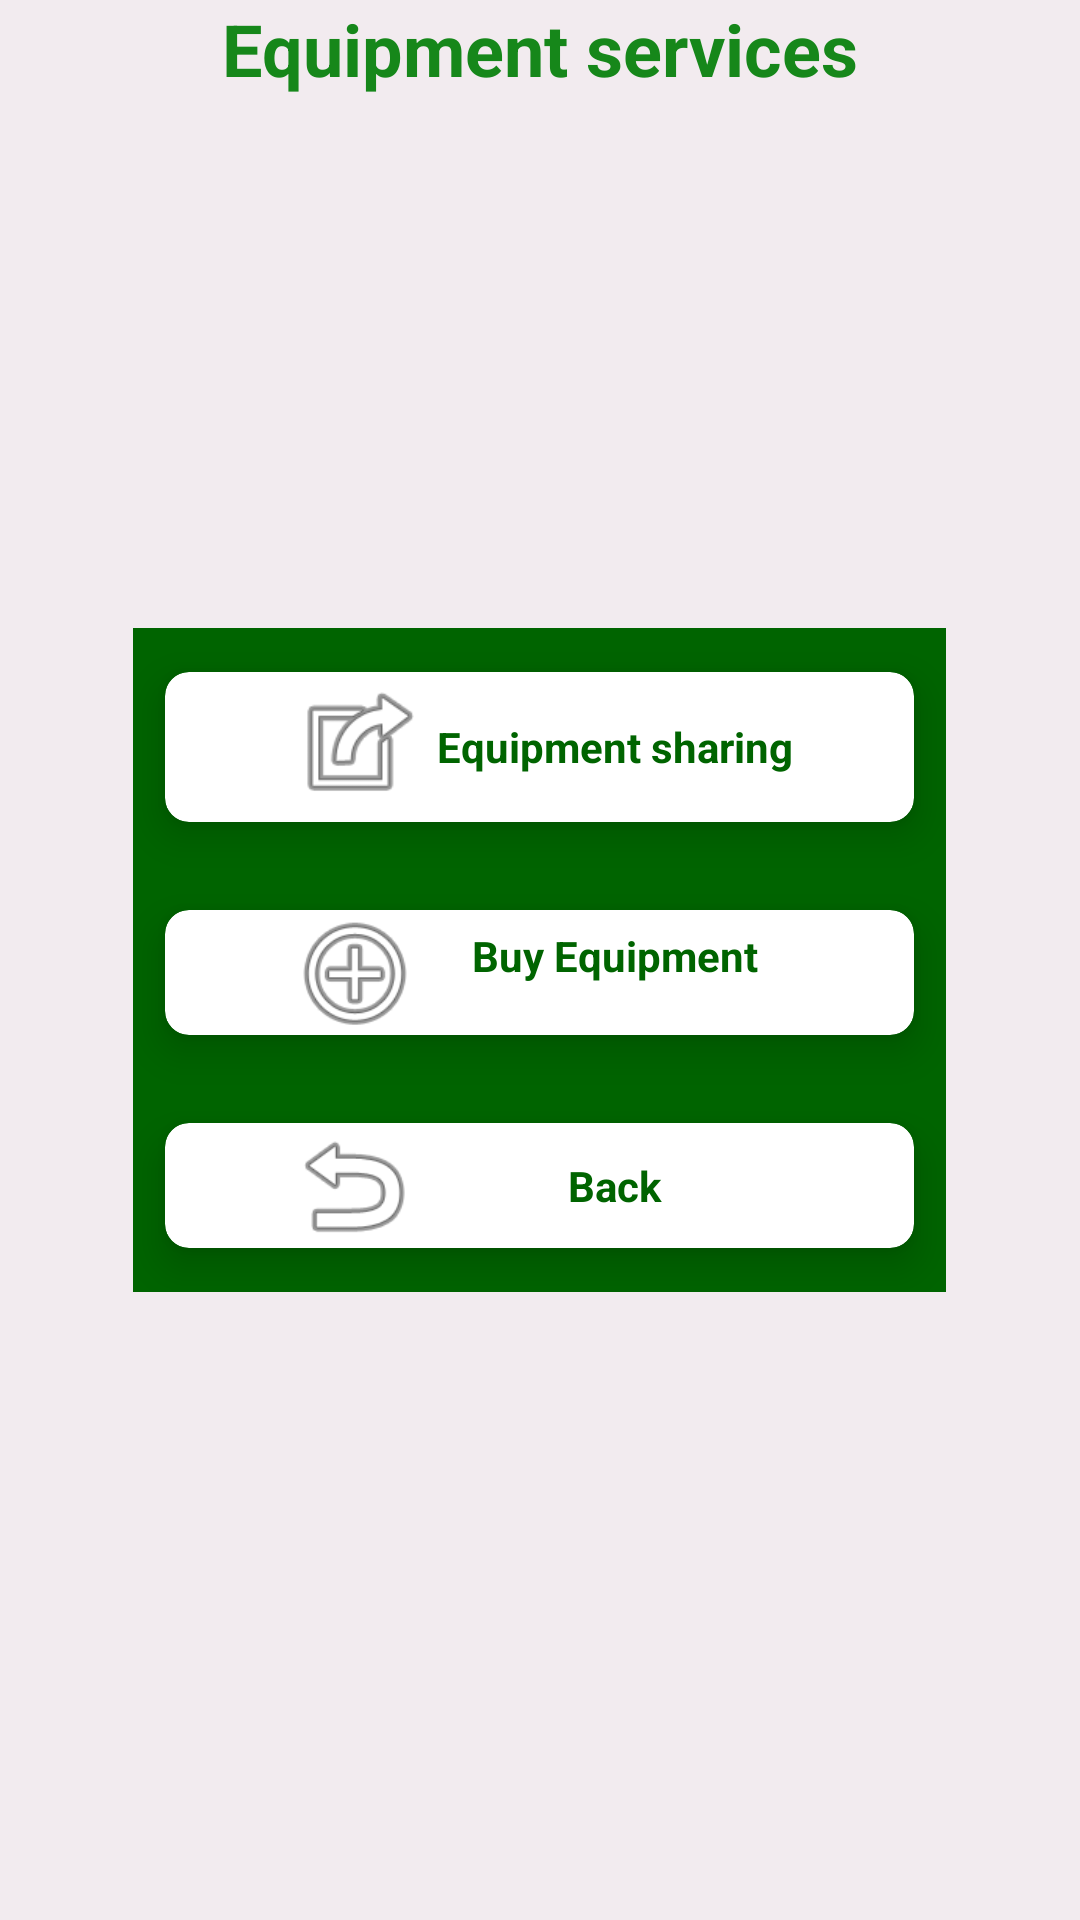

Named icons in this screenshot (1080px×1920px) and their centers, (x,y):
add: (355,973)
revert: (355,1187)
